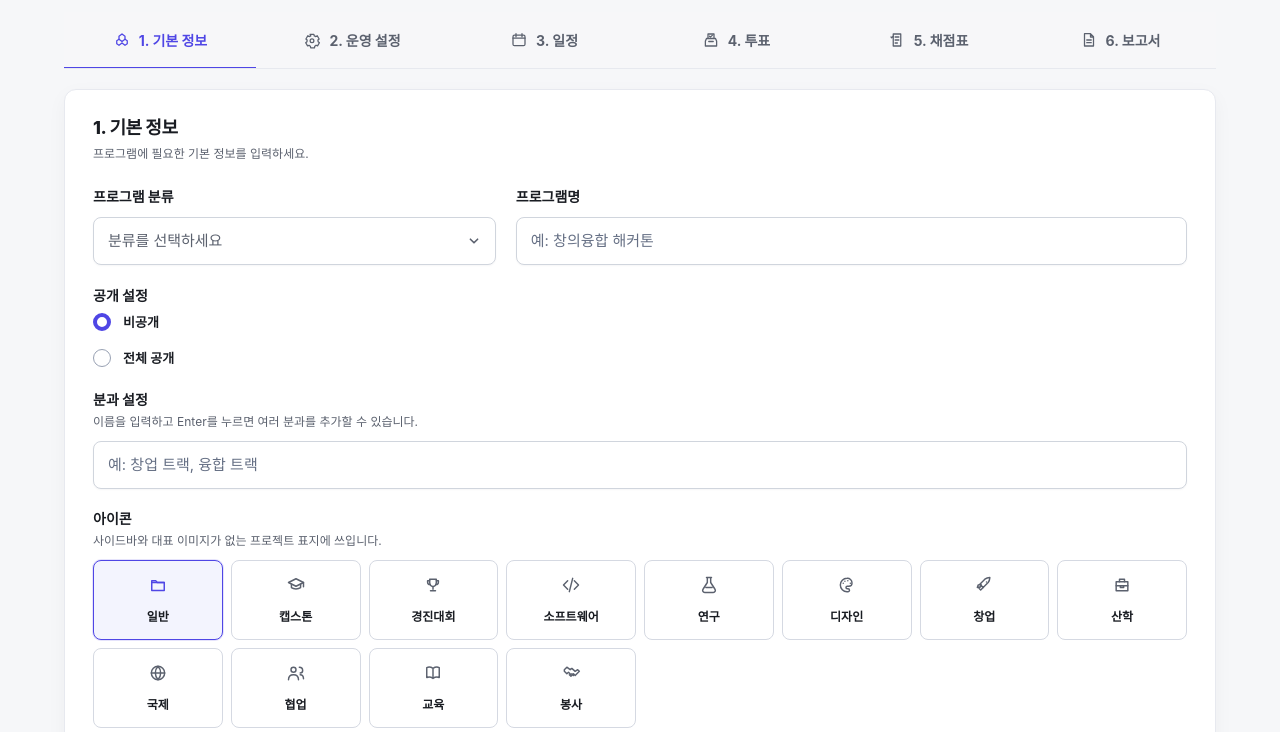
ProgramForm › 별도 학기 설정 없이 운영 시작과 종료를 입력한다
Click the button "3. 일정".
click(544, 40)  # box [448,12,640,68]
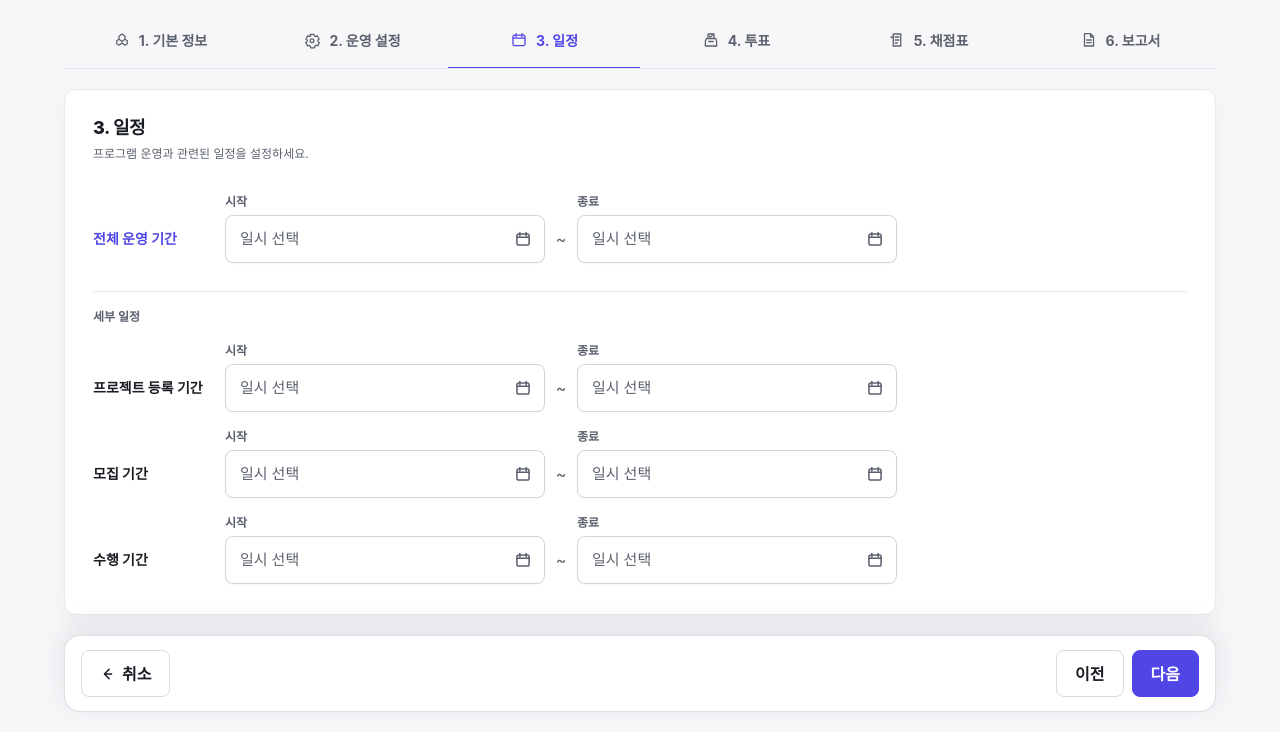
expect the button "다음" is enabled: met, box [1132,650,1199,697]
expect the text "전체 운영 기간" is shown: met, box [93,230,177,247]
expect the text "세부 일정" is shown: met, box [93,309,140,324]
